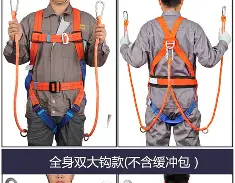safety belt: (26, 9, 90, 131), (145, 15, 208, 128)
